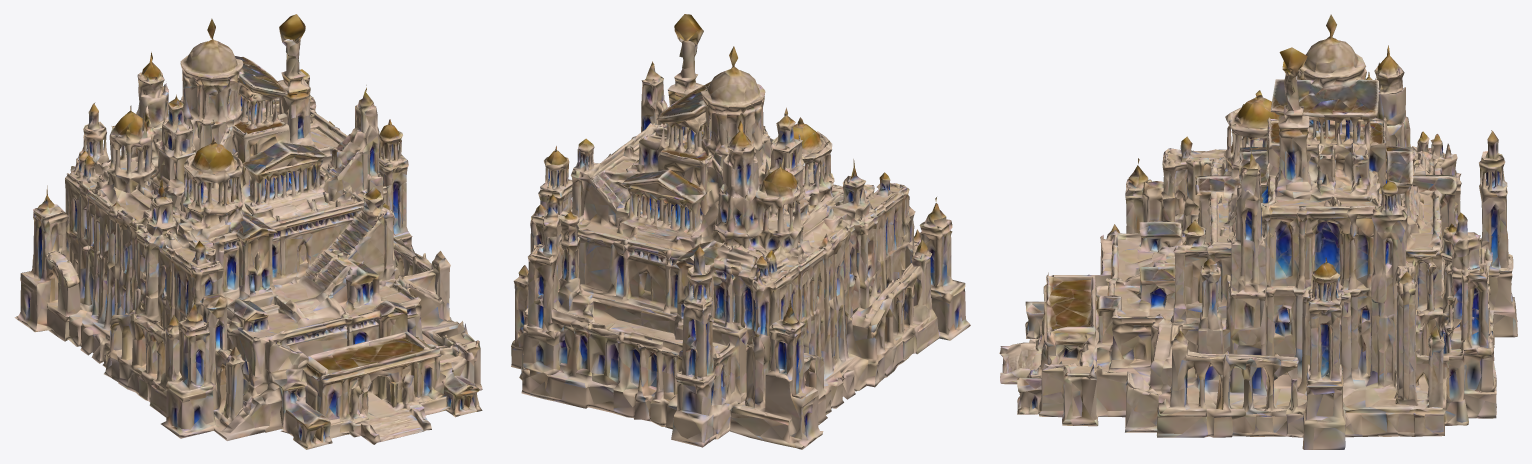
Rendered from kollema-lo.glb.
3 renders of one model, left to right at view 1: azimuth 30°, elevation 25°; view 2: azimuth 150°, elevation 25°; view 3: azimuth 270°, elevation 25°, orthographic. The views are drawn at different scales.
Size of the model in its own units: 1.46 by 1.37 by 1.9.
Materials: 1 (1 with a texture image).
